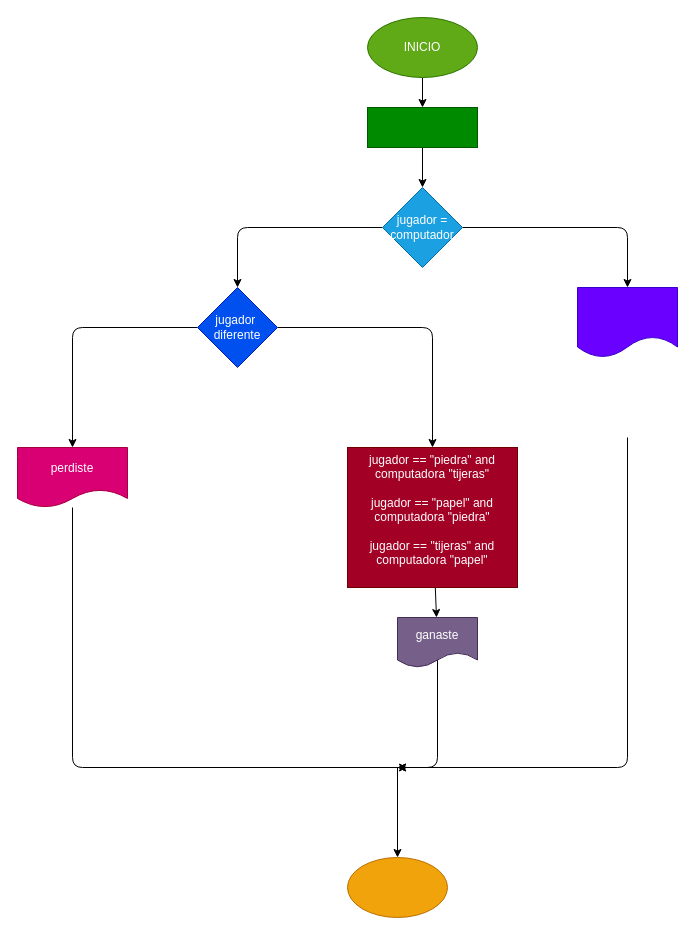
This 695x935 diagram has some shape labels left out. The shapes that lost their labels are listed below. From the top down, each one's centre as x and y in pixels, then its label:
(x=422, y=127): pieda,papel,tiijera
(x=627, y=322): empate
(x=397, y=887): FIN
